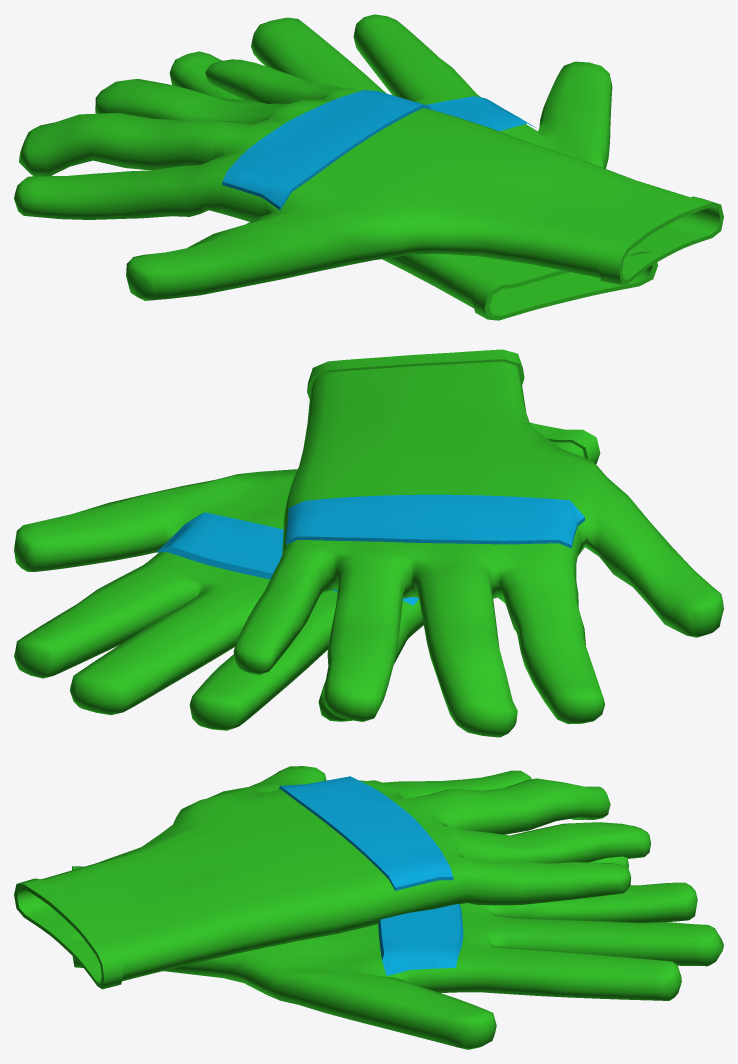
The model's file is model_ppe_gloves.fbx.
The picture shows the model from 3 angles, top to bottom: view 1: azimuth 30°, elevation 25°; view 2: azimuth 150°, elevation 25°; view 3: azimuth 270°, elevation 25°; orthographic projection. The views are drawn at different scales.
Parts seen in each view (by area): view 1: ppe_gloves; view 2: ppe_gloves; view 3: ppe_gloves.
Part boxes in pixels (x1=…): ppe_gloves: x1=14, y1=14, x2=723, y2=320; ppe_gloves: x1=14, y1=349, x2=723, y2=737; ppe_gloves: x1=14, y1=766, x2=723, y2=1049.
Bounding box in the file's own units: 24.37 × 3.49 × 28.18.
